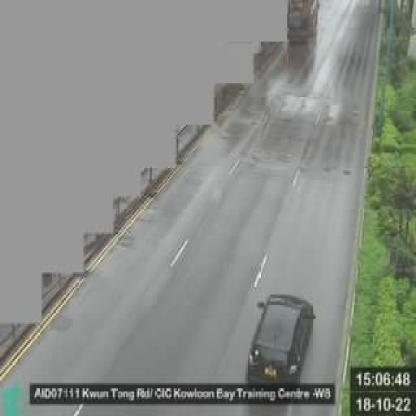Car: (248, 293, 312, 385)
Truck: (286, 0, 320, 41)
